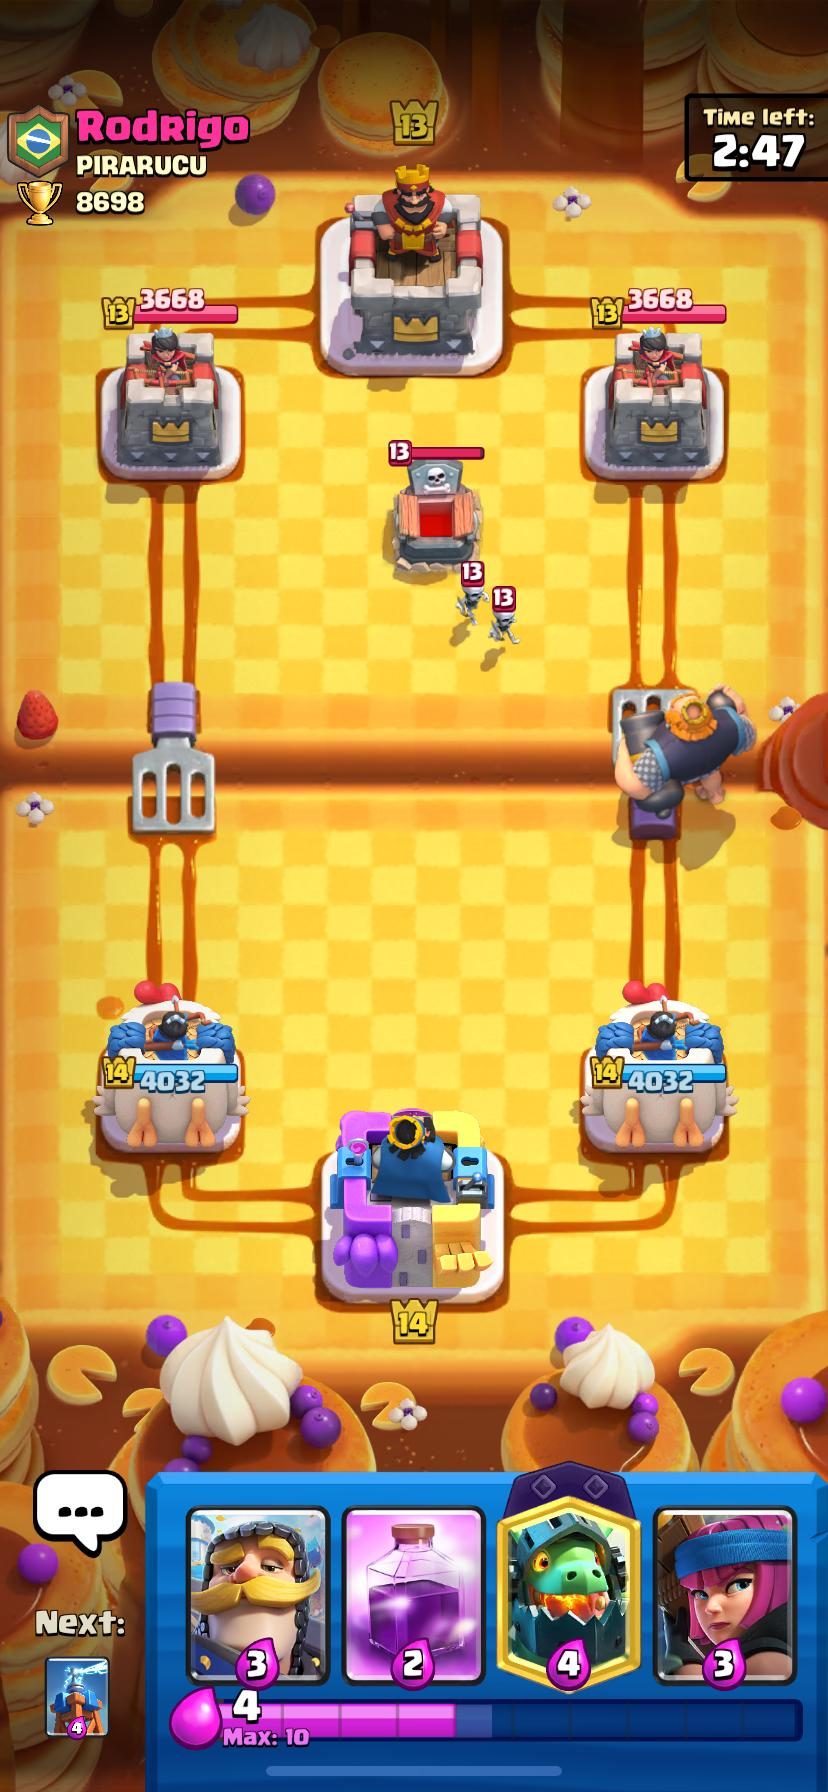EKingTower: (348, 165, 483, 357)
ELarry: (457, 560, 488, 625), (489, 585, 518, 645)
ETomb: (395, 454, 480, 566)
EnemyPrincessTower: (101, 326, 241, 480), (584, 328, 724, 481)
ORoyalG: (615, 687, 755, 817)
OwnKingTower: (321, 1109, 503, 1303)
OwnPrincessTower: (581, 982, 735, 1154), (93, 983, 248, 1152)
